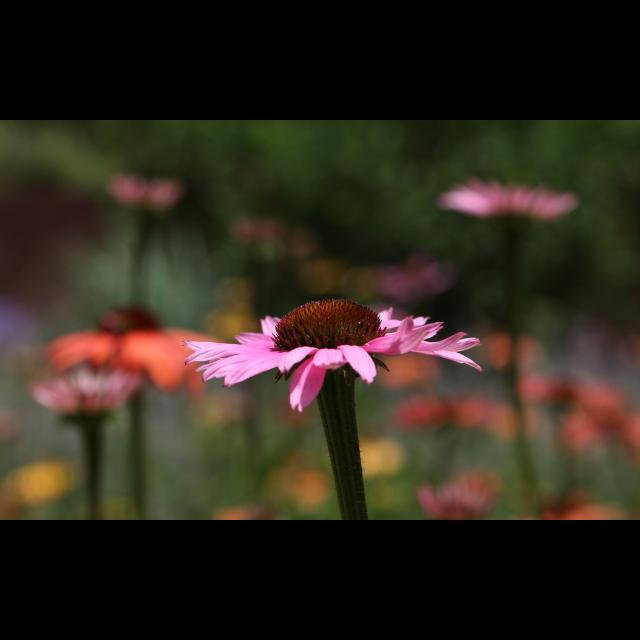Flower: (159, 294, 473, 408), (381, 335, 639, 459), (43, 306, 211, 396), (264, 438, 398, 508), (28, 362, 140, 418), (440, 182, 576, 218), (2, 462, 72, 504), (414, 484, 482, 520), (542, 492, 628, 520), (108, 175, 180, 208), (379, 257, 439, 295), (226, 219, 270, 243), (461, 468, 504, 492), (216, 508, 266, 520)
